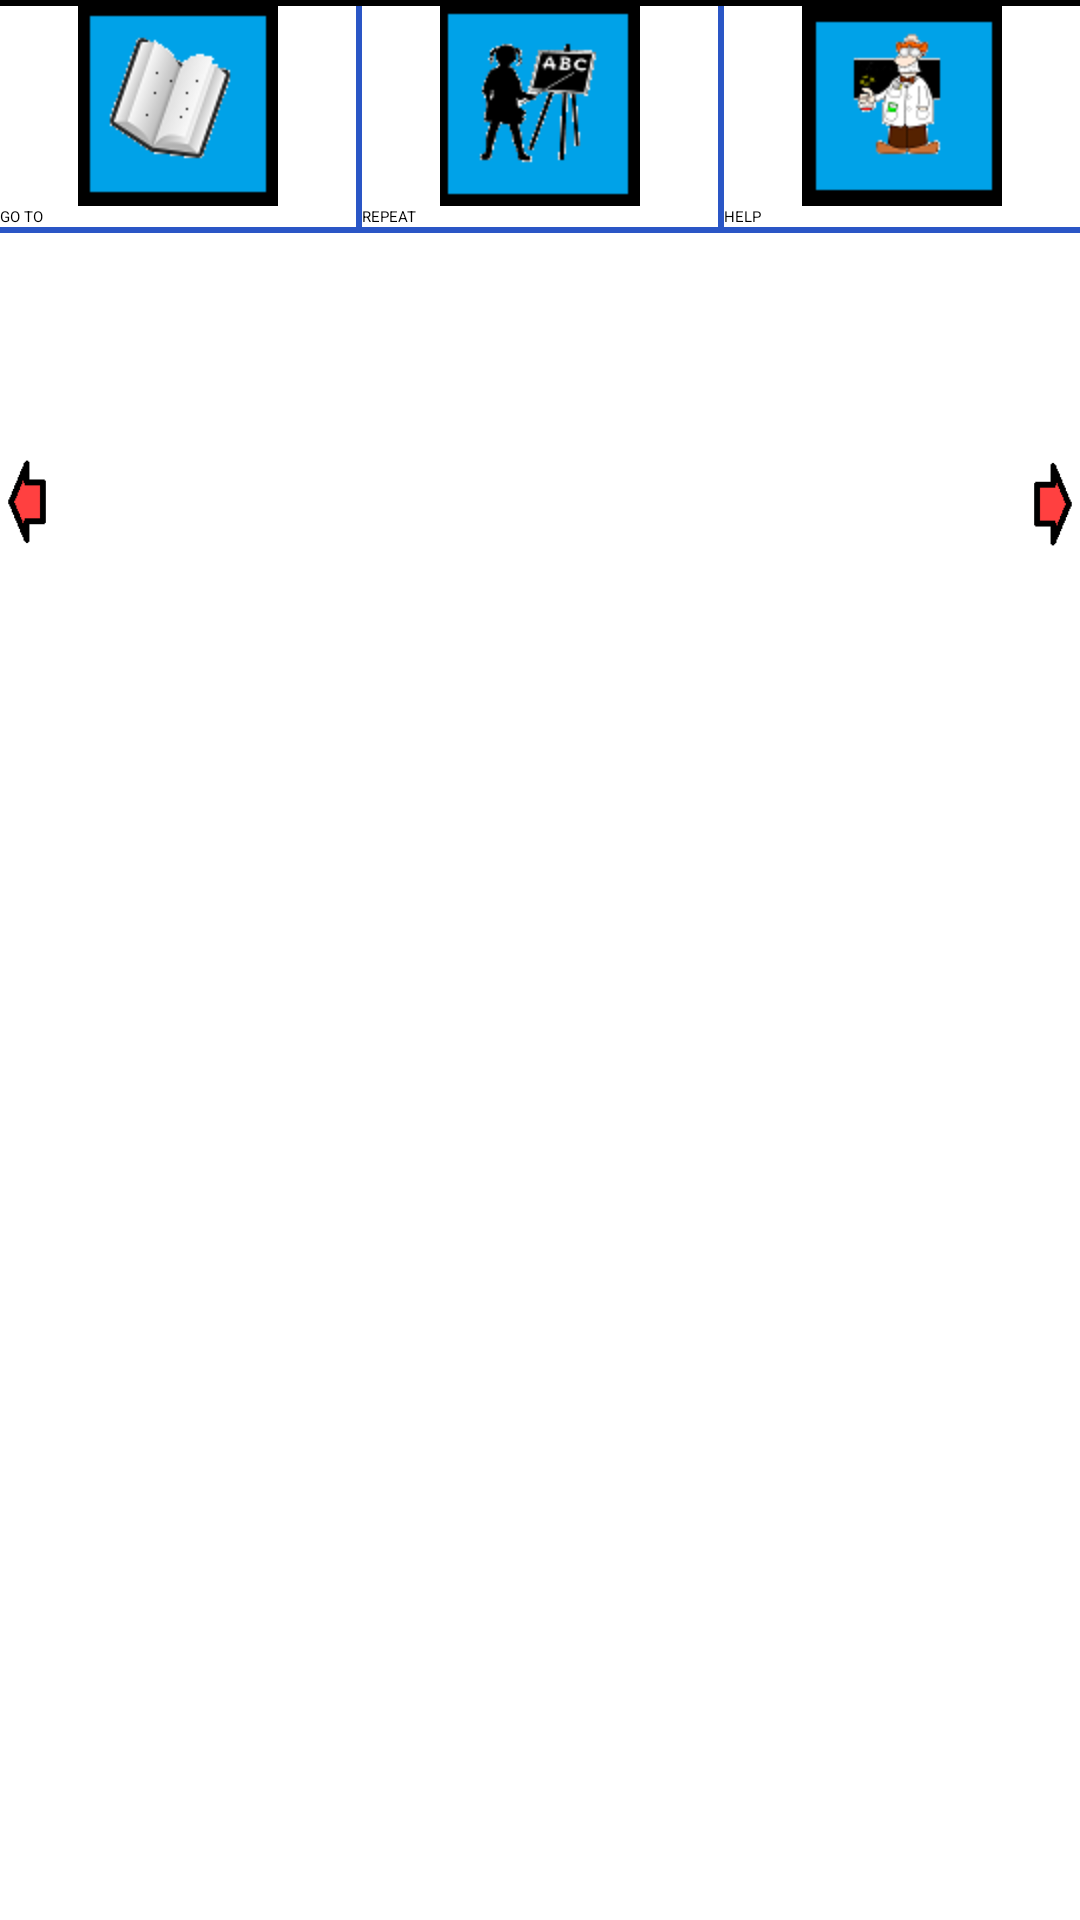

Where icons sit on this 1080 × 1920 app screen, as (x1, y1, x2, y2):
left: (8, 460, 46, 543)
right: (1034, 463, 1072, 546)
